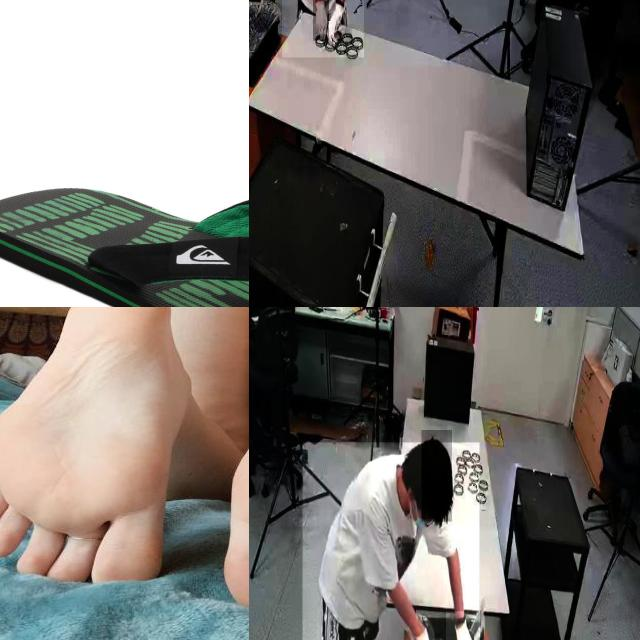Barefoots: (0, 307, 188, 589)
Sandals: (0, 185, 249, 307)
face_mask: (412, 503, 440, 540)
hand_glove: (446, 611, 485, 640), (328, 0, 345, 44), (312, 0, 329, 41), (414, 616, 439, 640)
head_nohelmet: (422, 430, 452, 522)
person: (302, 442, 479, 640), (249, 307, 283, 503), (281, 0, 364, 58)
